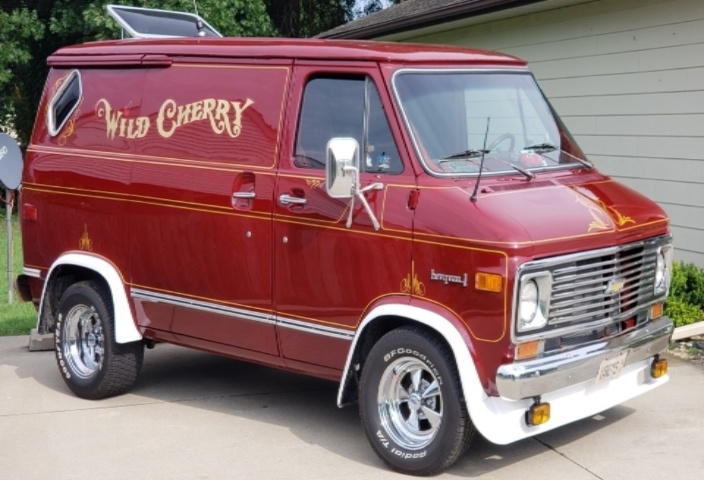van: (27, 29, 681, 464)
